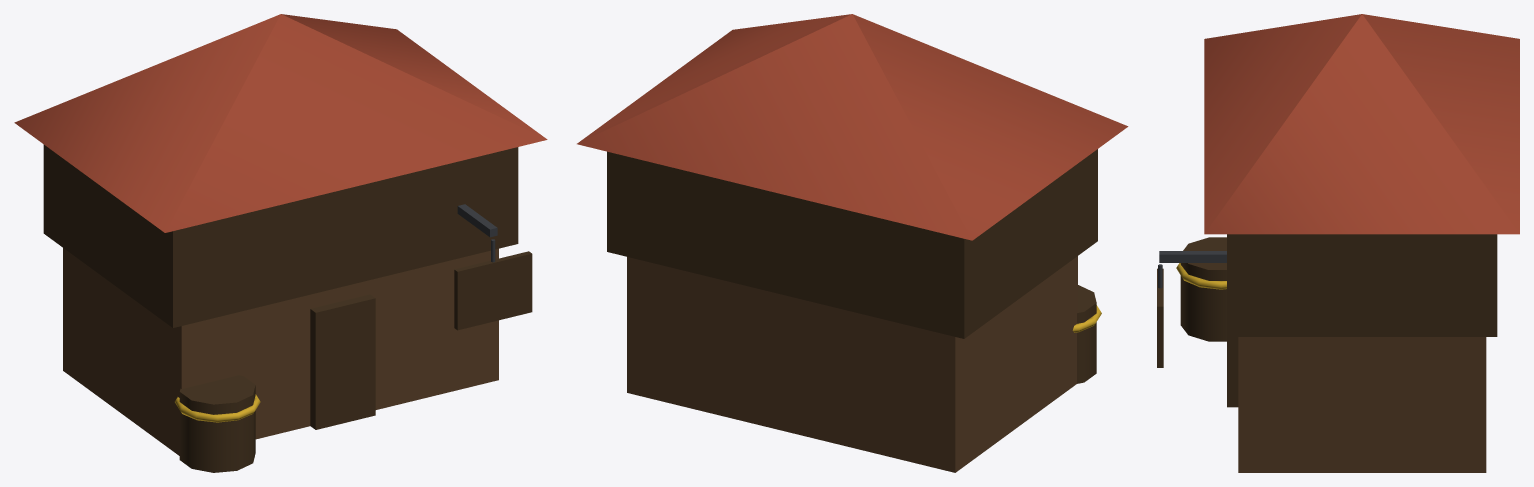
File: tavern.glb
3 views of the same model, side by side, from view 1: azimuth 30°, elevation 25°; view 2: azimuth 150°, elevation 25°; view 3: azimuth 270°, elevation 25° (orthographic). The views are drawn at different scales.
Bounding box in the file's own units: 2.05 × 1.85 × 1.61.
